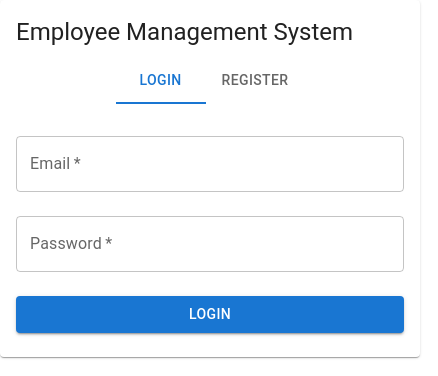
Test case: Login Page › disables submit button while loading
In the field labelled "Email *": (210, 164) [16, 136, 404, 192], type "test@test.com"
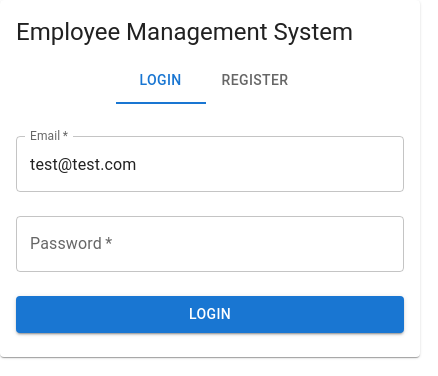
In the password field labelled "Password *": (210, 244) [16, 216, 404, 272], type "password"
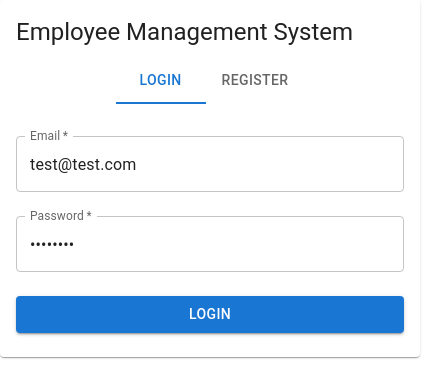
Click the button "Login": (210, 315) [16, 296, 404, 333]
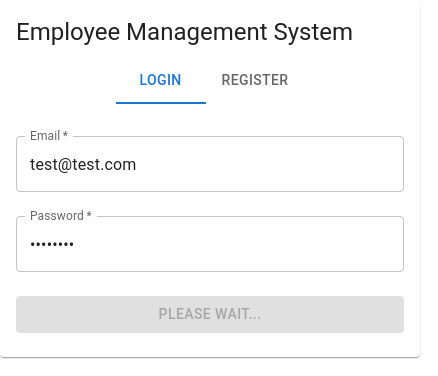
Expected: the button "Please wait..." is disabled, [16, 296, 404, 333]
